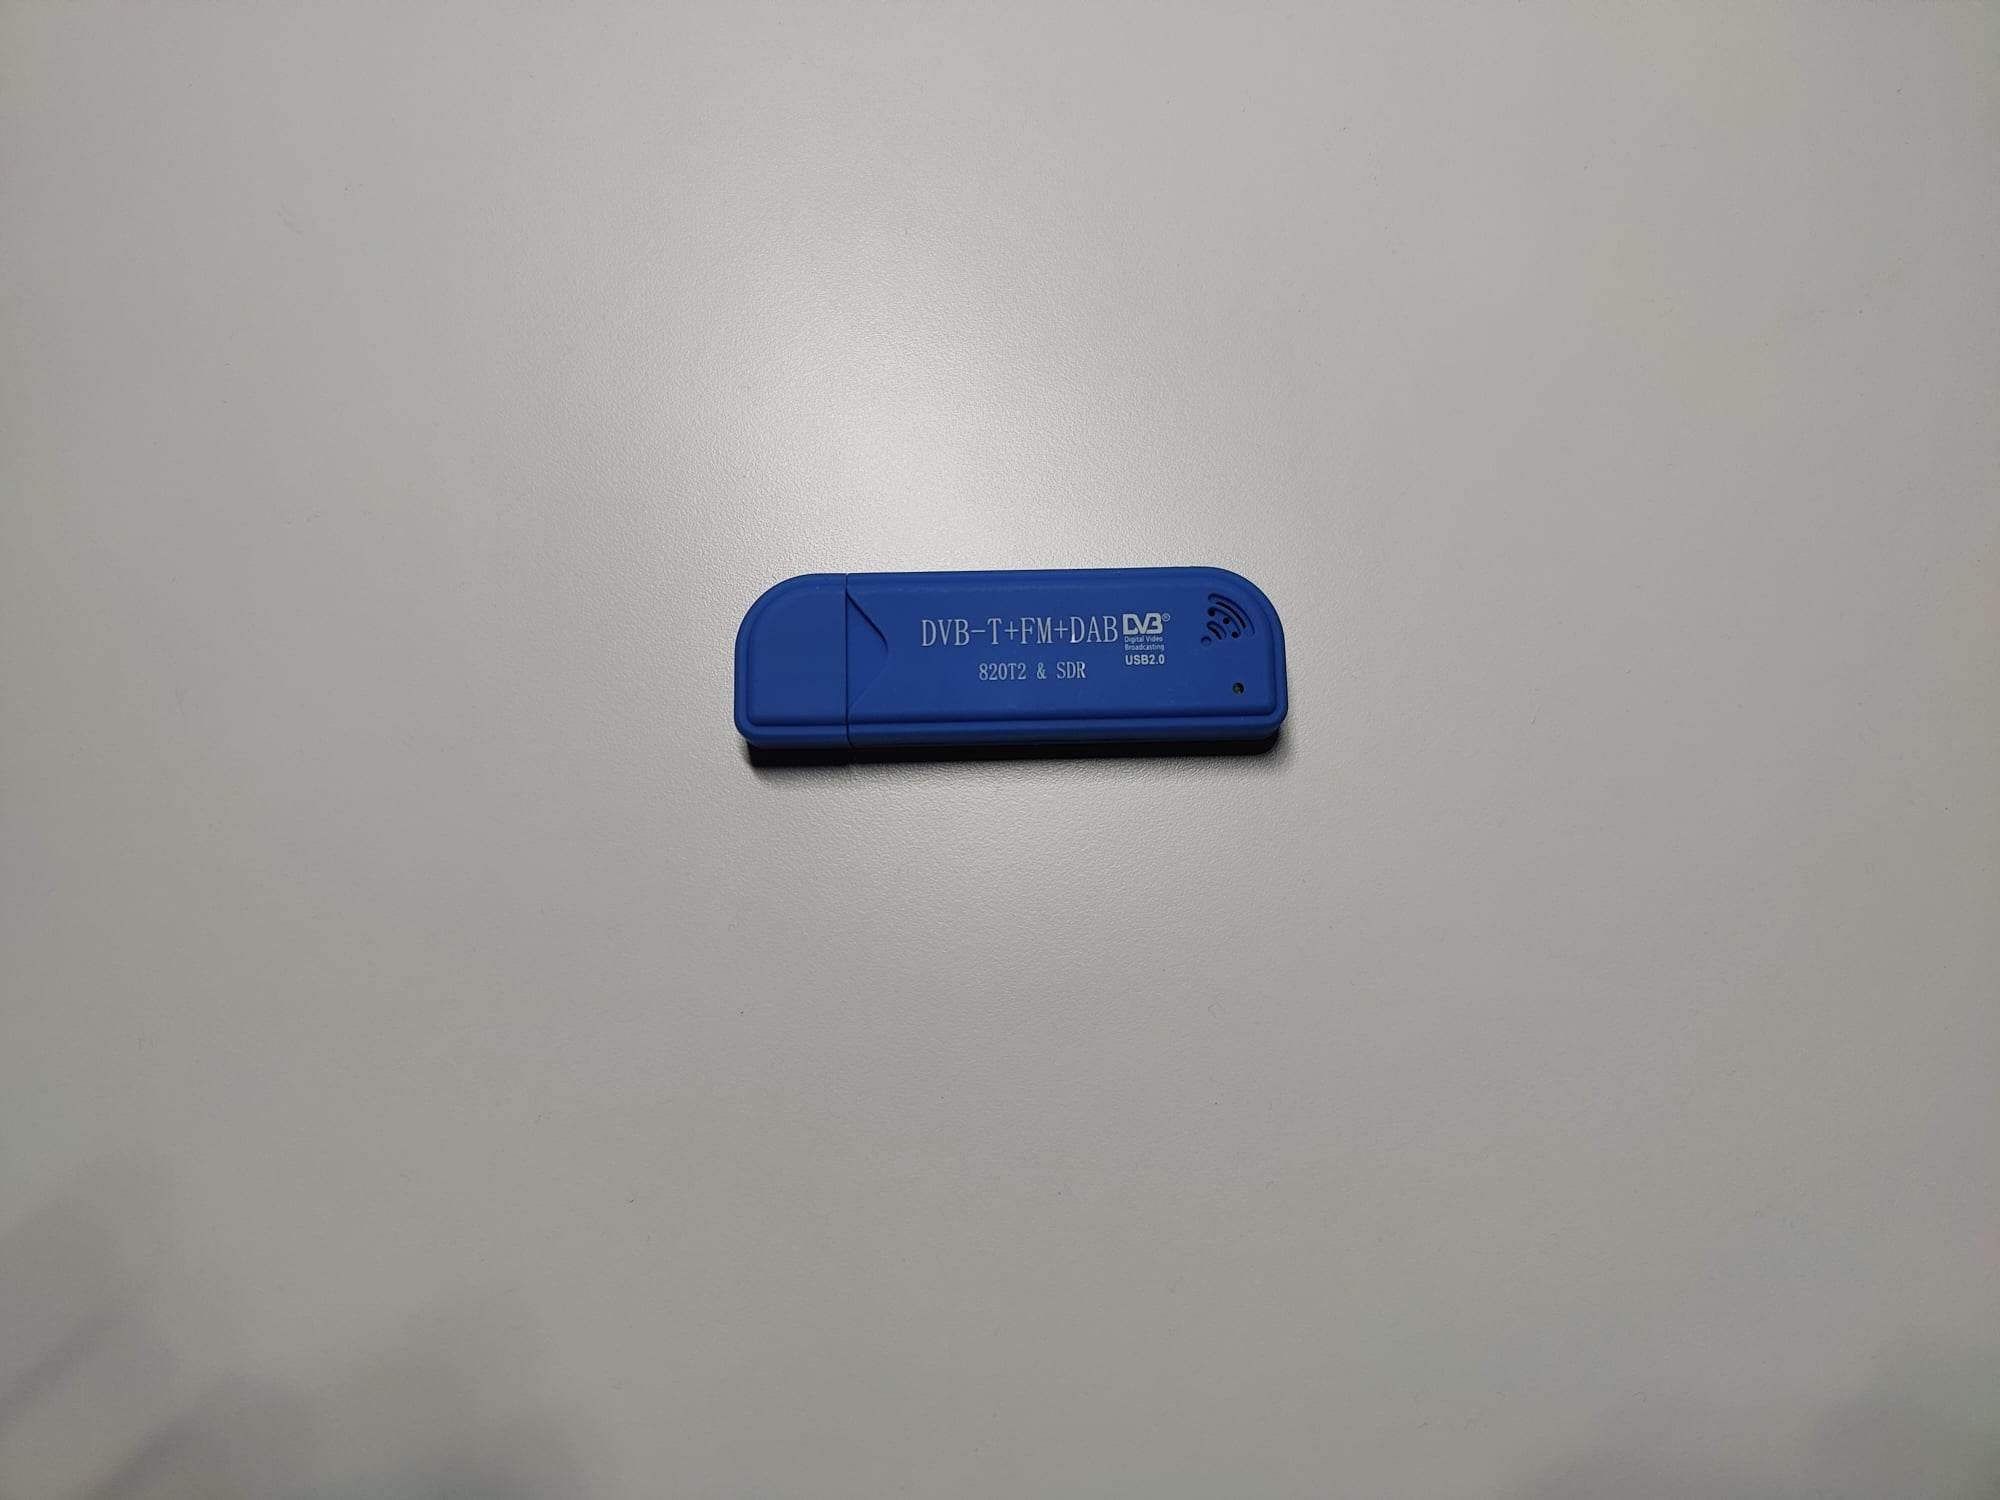DVB: (718, 539, 1318, 778)
